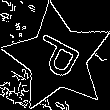P_SE: (27, 30, 88, 86)
